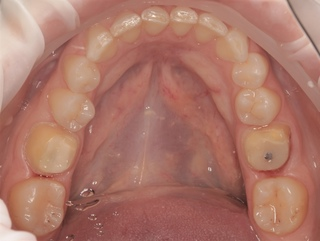UL1BC_healthy: (233, 52, 269, 87)
UL1M_decay: (245, 128, 290, 170)
UL2BC_healthy: (236, 88, 278, 125)
UL2M_healthy: (253, 179, 306, 232)
ULCI_healthy: (170, 7, 197, 36)
ULC_healthy: (218, 31, 248, 62)
ULLI_healthy: (197, 14, 227, 42)
UR1BC_healthy: (64, 56, 100, 93)
UR1M_healthy: (29, 124, 76, 173)
UR2BC_healthy: (51, 92, 95, 131)
UR2M_healthy: (12, 180, 64, 231)
URCI_healthy: (141, 7, 169, 34)
URC_healthy: (86, 25, 116, 62)
URLI_healthy: (111, 12, 140, 41)
